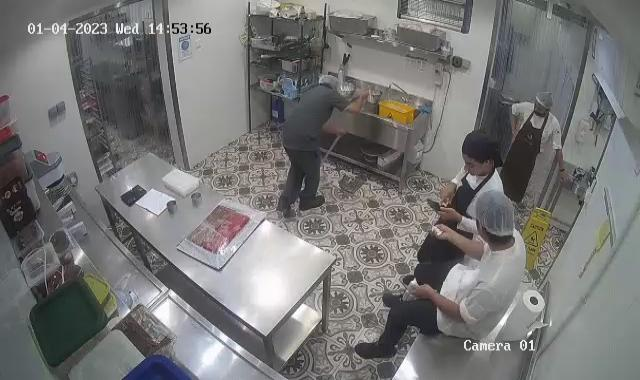hairnet: (469, 189, 516, 245), (532, 90, 554, 111), (317, 72, 341, 90)
no_hairnet: (462, 124, 505, 165)
